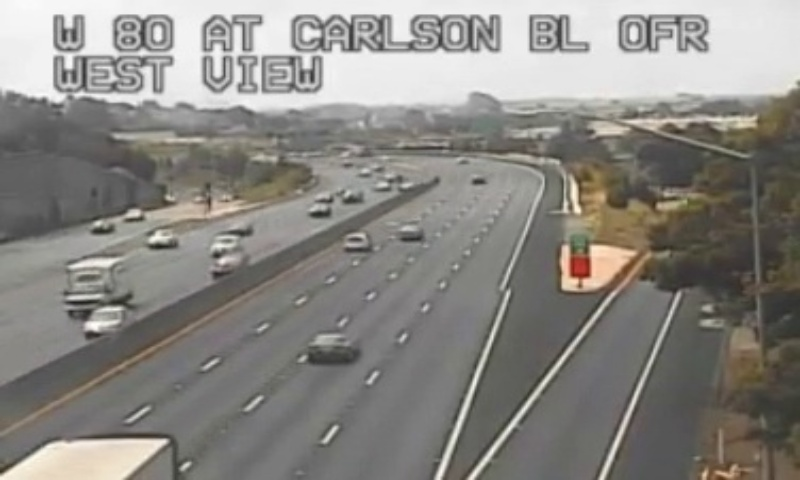car: (308, 332, 357, 362), (342, 232, 370, 252)
